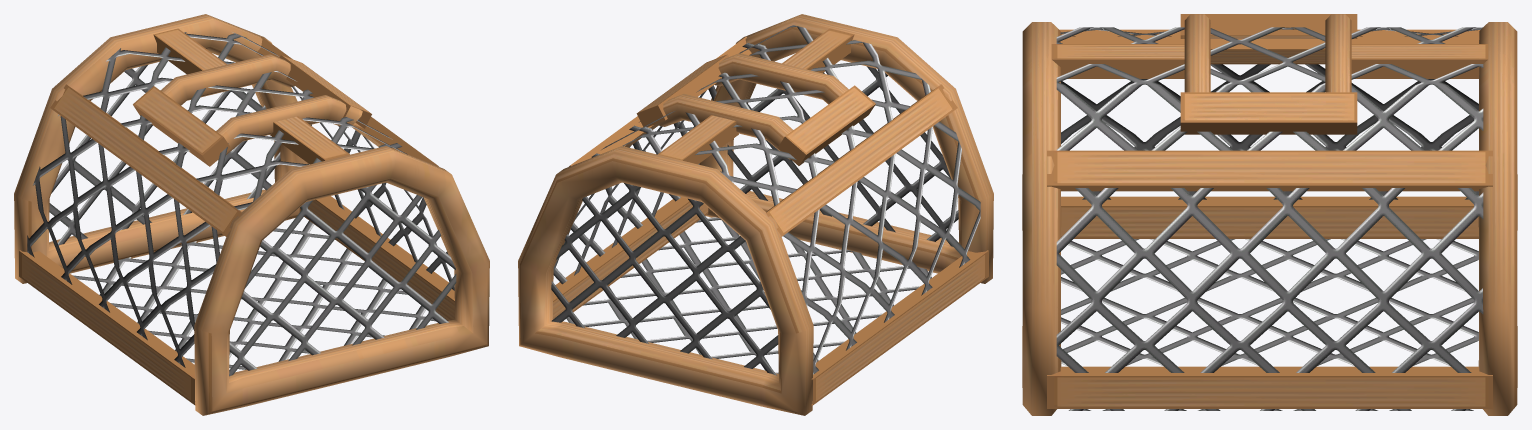
Rendered from CrabPotHand.fbx.
3 views of the same model, side by side, from view 1: azimuth 30°, elevation 25°; view 2: azimuth 150°, elevation 25°; view 3: azimuth 270°, elevation 25° (orthographic). The views are drawn at different scales.
Parts seen in each view (by area): view 1: CrabPotFull; view 2: CrabPotFull; view 3: CrabPotFull.
Boxes of the visible parts, box(x1,y1,x2,y2) form: CrabPotFull: box(14, 14, 489, 415); CrabPotFull: box(518, 14, 993, 415); CrabPotFull: box(1022, 14, 1517, 415).
Size of the model in its own units: 1.02 by 0.7577 by 1.19.
